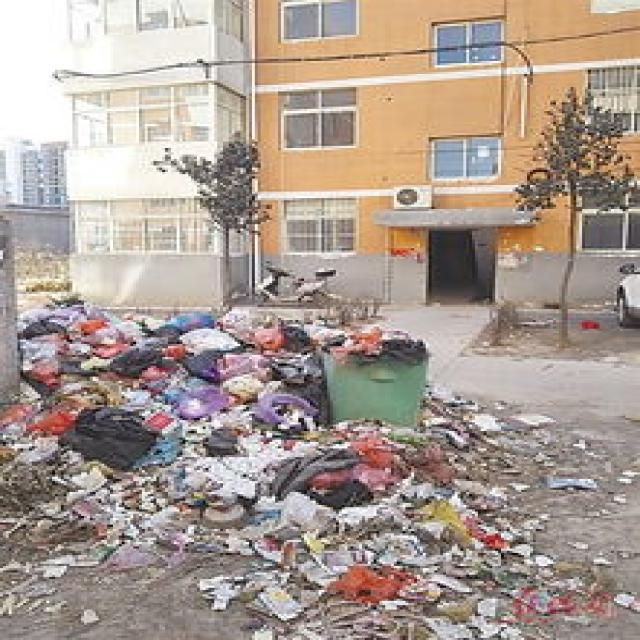garbage: (12, 300, 637, 638)
overflow: (322, 327, 428, 422)
